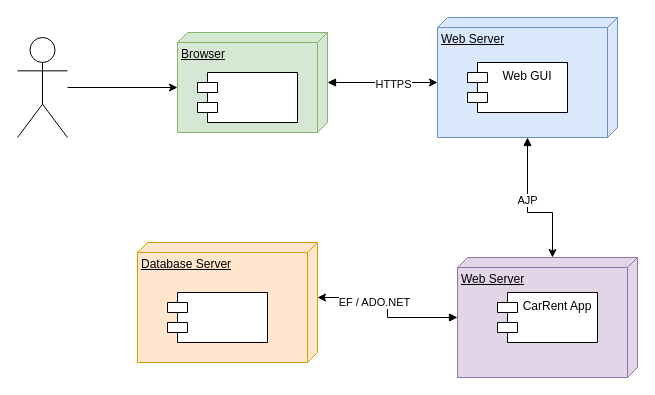
This 655x395 diagram has some shape labels left out. The shapes that lost their labels are listed below. From the top down, each one's centre as x and y in pixels, then its label:
At (42,87): "User".
At (217,317): "MS SQL".
